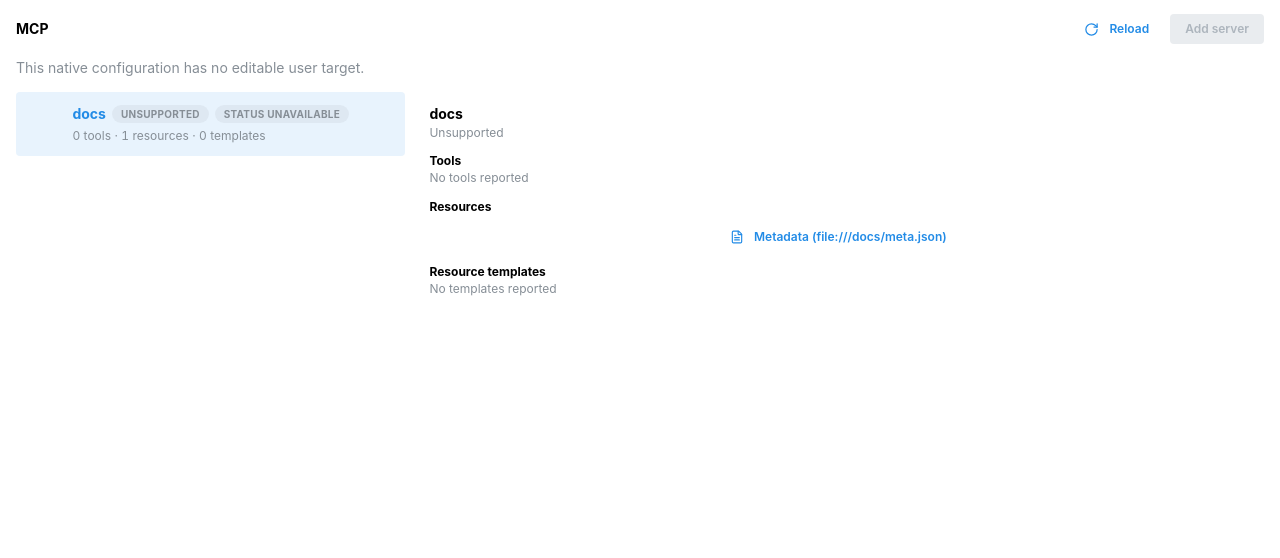
Test: MCP runtime preferences › renders JSON-like resource content without arbitrary URI input
The image size is (1280, 558).
Expected: the field labelled "uri" is not shown
What coordinates should you click on to do the following:
click the button "Metadata (file:///docs/meta.json)"
I would click on:
 (841, 237)
Its box is left=429, top=222, right=1252, bottom=252.
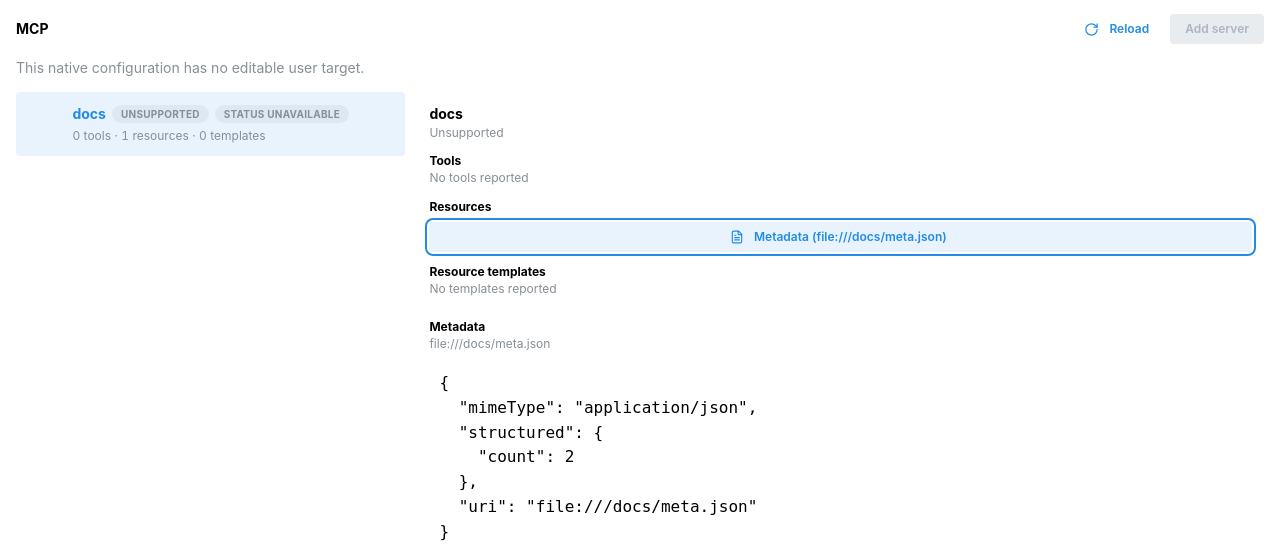
Expected: the text "\"count\": 2" is shown, left=439, top=373, right=757, bottom=541
